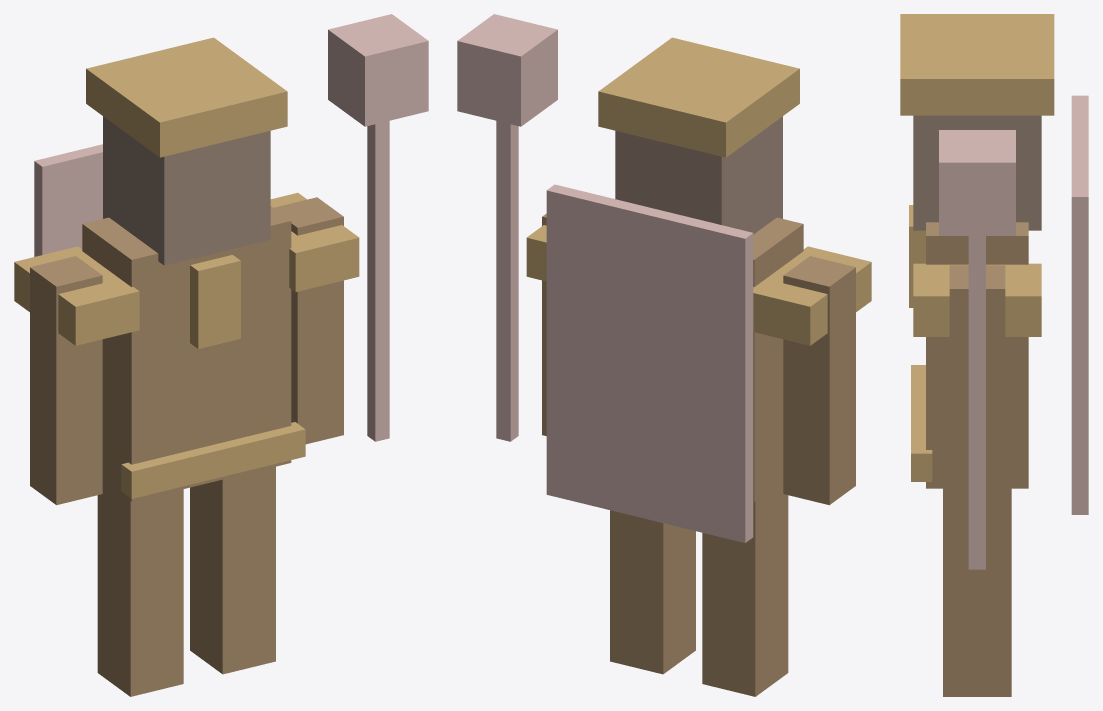
The model's file is 05_vela_gravesong_keeper_near_kill.glb.
3 views of the same model, side by side, from view 1: azimuth 30°, elevation 25°; view 2: azimuth 150°, elevation 25°; view 3: azimuth 270°, elevation 25° (orthographic). The views are drawn at different scales.
Parts seen in each view (by area): view 1: Vela Gravesong, Keeper near Kill; view 2: Vela Gravesong, Keeper near Kill; view 3: Vela Gravesong, Keeper near Kill.
Boxes of the visible parts, <box> form: Vela Gravesong, Keeper near Kill: <box>14,14,428,696</box>; Vela Gravesong, Keeper near Kill: <box>457,14,871,696</box>; Vela Gravesong, Keeper near Kill: <box>900,14,1088,696</box>.
Size of the model in its own units: 1.09 by 1.67 by 0.4637.
